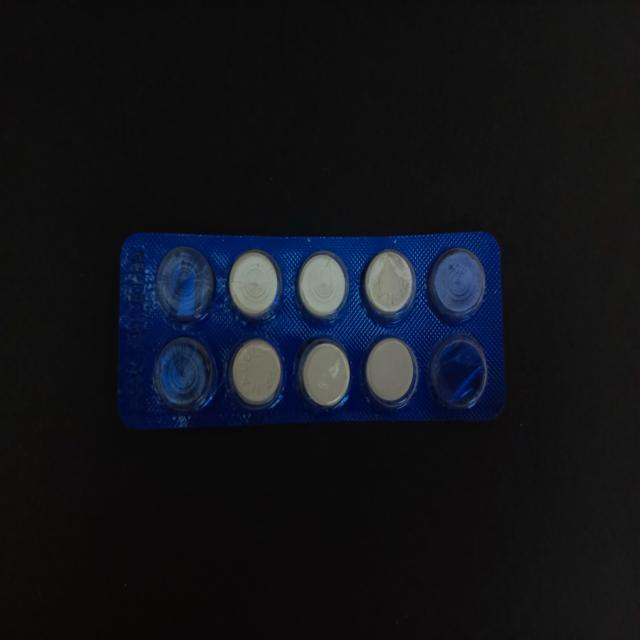defect: (151, 334, 217, 418), (154, 243, 217, 327), (426, 332, 490, 413), (425, 244, 488, 326)
